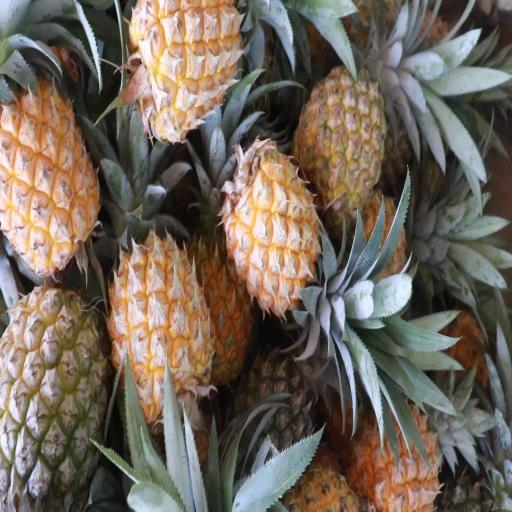------------------------------: (0, 290, 110, 512), (296, 65, 386, 208)
Pineapple - v8 v1: (0, 82, 104, 268), (110, 242, 210, 418), (225, 145, 323, 320), (130, 0, 245, 130), (351, 396, 442, 511), (189, 237, 252, 387)
